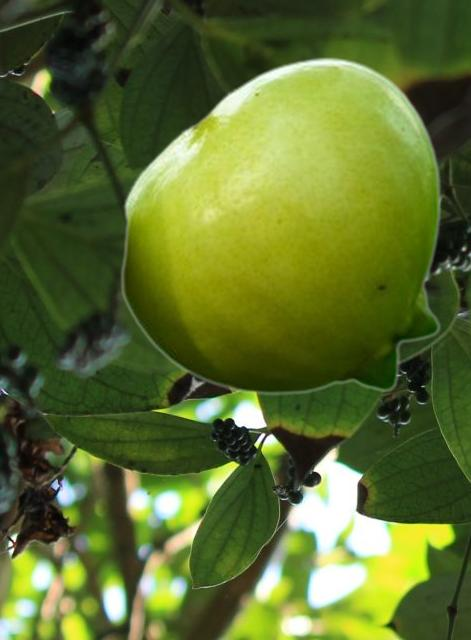guava: (119, 56, 441, 394)
